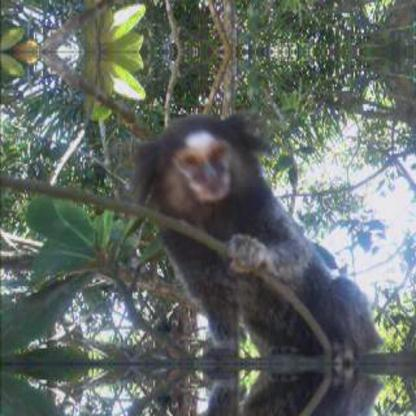Monkey: (154, 117, 362, 347)
